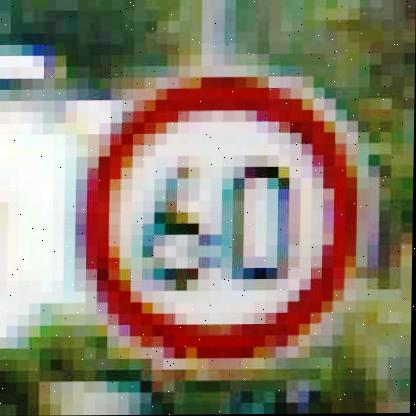Speed Limit -60-: (80, 71, 362, 367)
